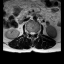CCS_stenosis: (31, 29, 33, 37)
LFS_normal: (35, 29, 37, 36)
LLS_normal: (33, 29, 35, 36)
RFS_normal: (28, 29, 29, 36)
RLS_normal: (29, 30, 31, 36)
